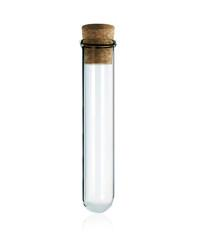Test tube: (73, 19, 120, 217)
